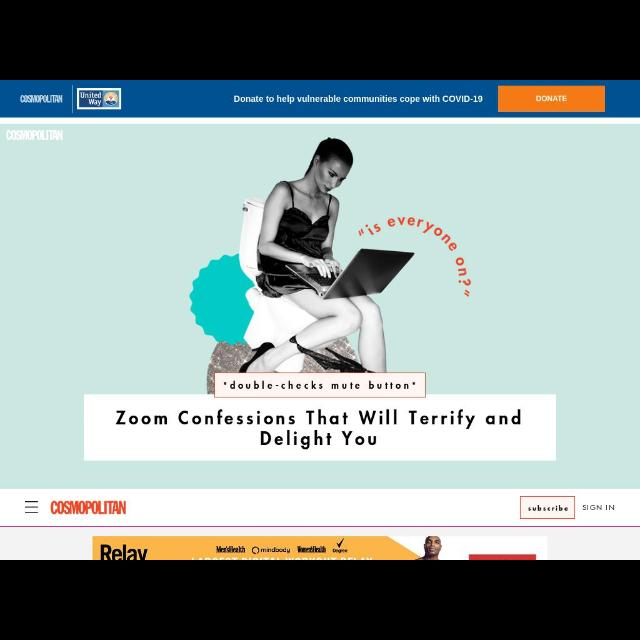icon: (18, 496, 44, 518)
iframe: (91, 538, 547, 558)
image: (162, 131, 510, 373), (76, 90, 122, 110)
text: (110, 404, 526, 426), (233, 93, 484, 105), (223, 379, 419, 391), (255, 431, 378, 449), (51, 500, 125, 516), (2, 128, 64, 142), (17, 94, 64, 104), (581, 501, 619, 511)
textbutton: (499, 84, 605, 112), (522, 497, 574, 519)
toolbar: (2, 83, 638, 115)
